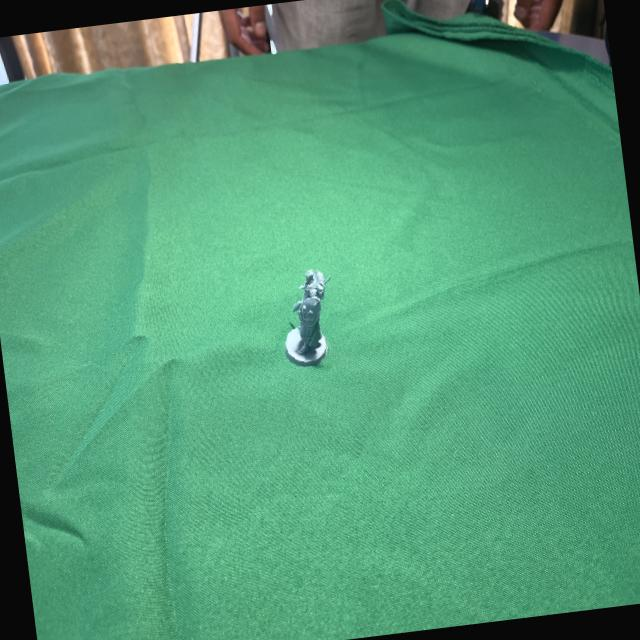isis_follower: (272, 262, 339, 370)
